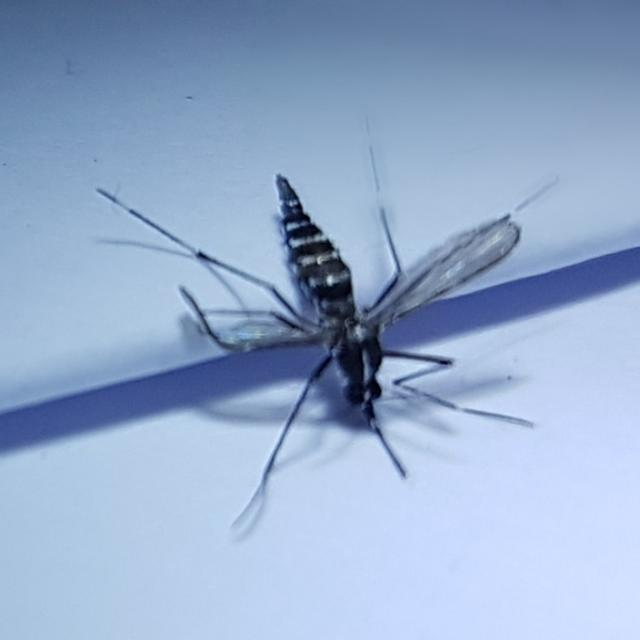albopictus: (104, 104, 556, 524)
